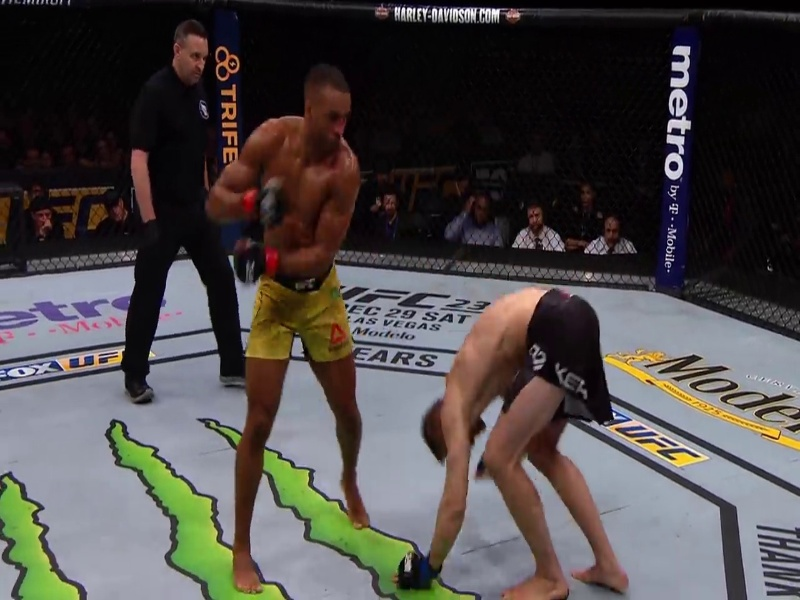fighter: (200, 66, 382, 595), (392, 281, 652, 600)
